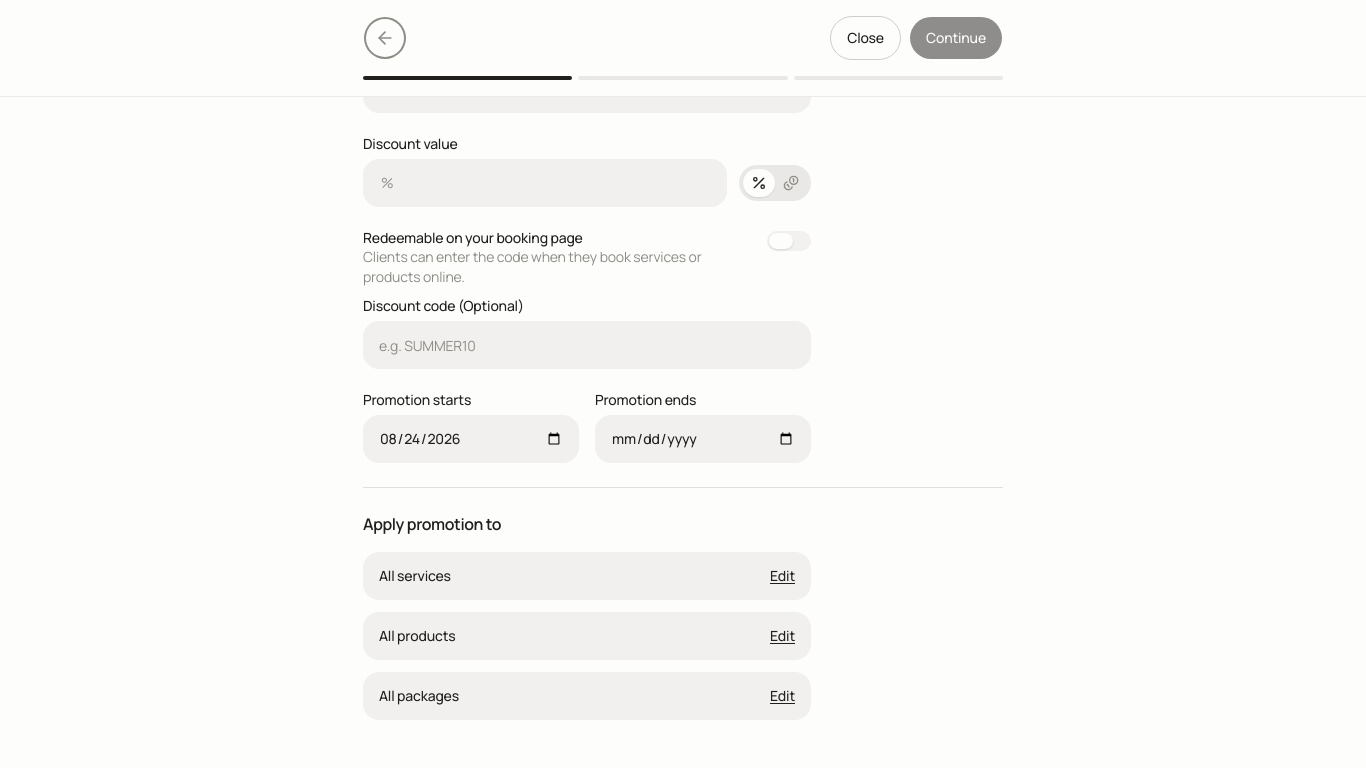
Test case: what the deal comes off › opens a catalogue picker per kind
(page scrolled)
Click the button "Edit" in the row of "All services".
click(782, 576)  # box [770,566,795,586]
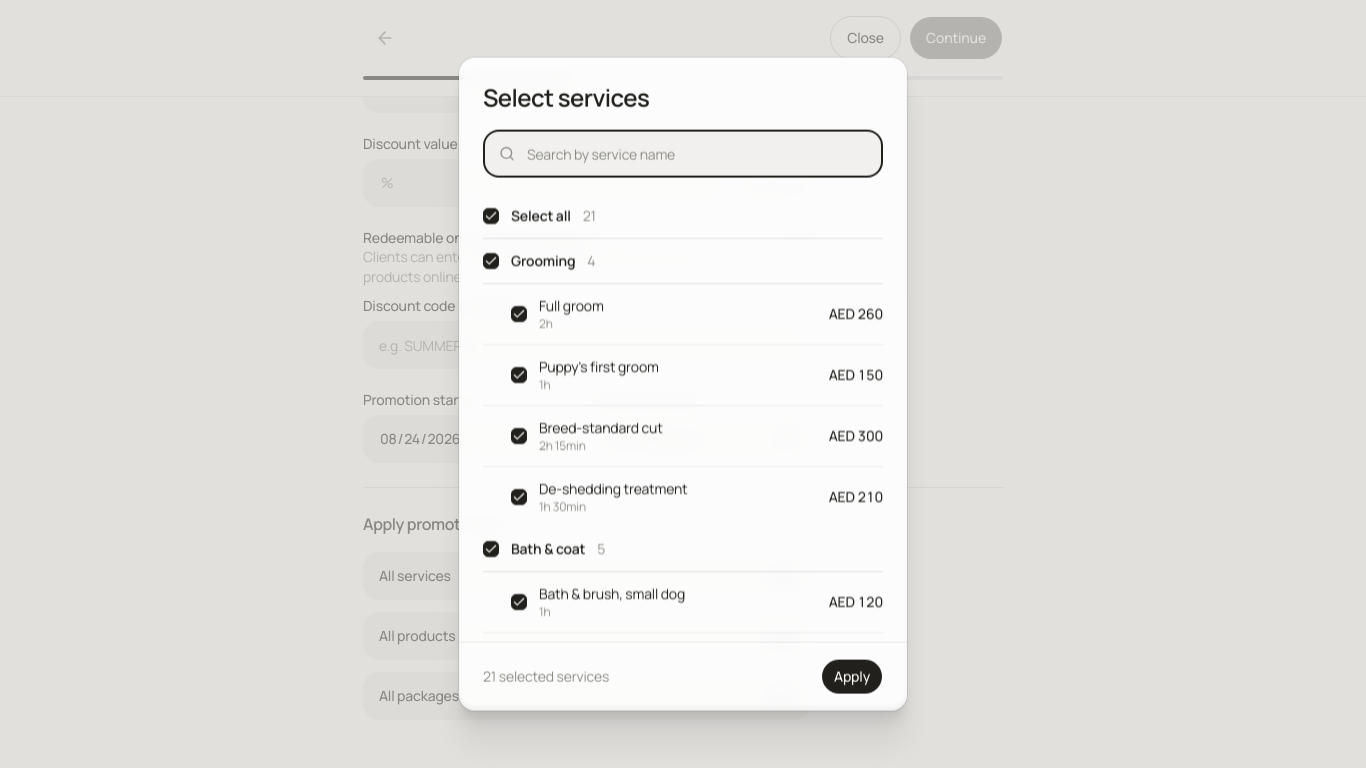
Expected: the heading "Select services" is shown, [483,81,649,114]
